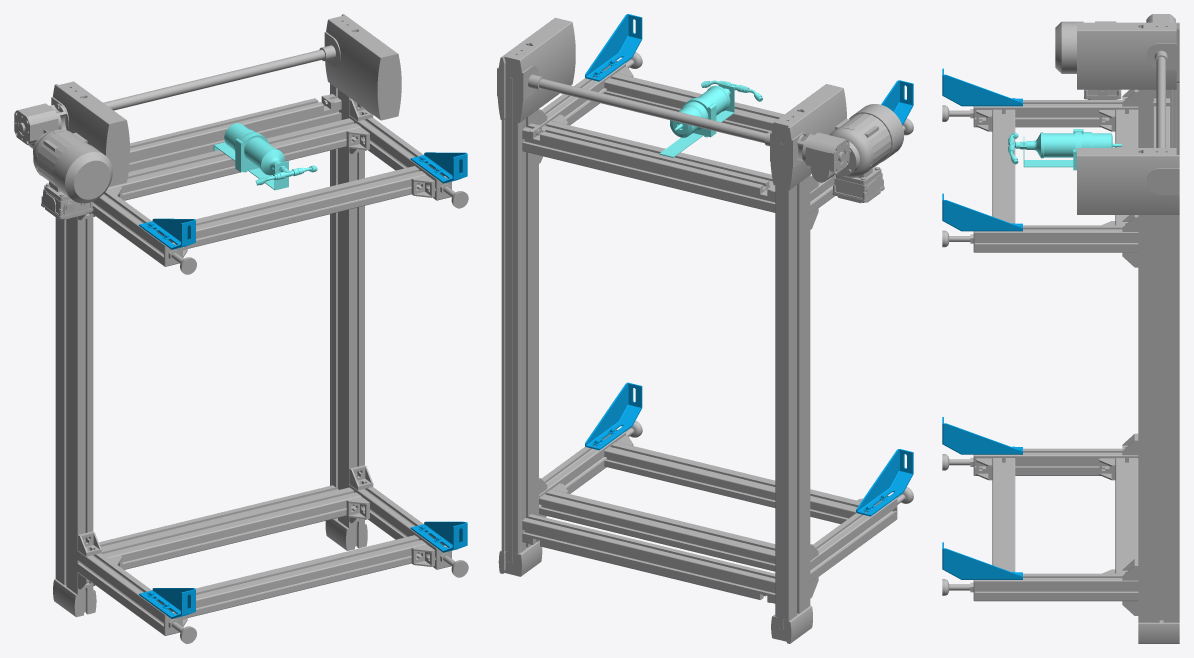
Rendered from Conv_static-transformed.glb.
The picture shows the model from 3 angles, left to right: view 1: azimuth 30°, elevation 25°; view 2: azimuth 150°, elevation 25°; view 3: azimuth 270°, elevation 25°; orthographic projection. The views are drawn at different scales.
Parts seen in each view (by area): view 1: AP727515522, AP126116733_Full Detail028, AP727514879; view 2: AP727515522, AP126116733_Full Detail028, AP727514879; view 3: AP727515522, AP126116733_Full Detail028, AP727514879.
Part boxes in pixels (x1=…): AP727515522: x1=14, y1=14, x2=468, y2=643; AP126116733_Full Detail028: x1=139, y1=152, x2=467, y2=618; AP727514879: x1=213, y1=123, x2=317, y2=190; AP727515522: x1=497, y1=17, x2=913, y2=643; AP126116733_Full Detail028: x1=585, y1=14, x2=913, y2=516; AP727514879: x1=659, y1=80, x2=762, y2=157; AP727515522: x1=942, y1=14, x2=1179, y2=643; AP126116733_Full Detail028: x1=942, y1=68, x2=1022, y2=579; AP727514879: x1=1008, y1=129, x2=1123, y2=170.
Size of the model in its own units: 0.9785 by 1.4 by 0.617.
